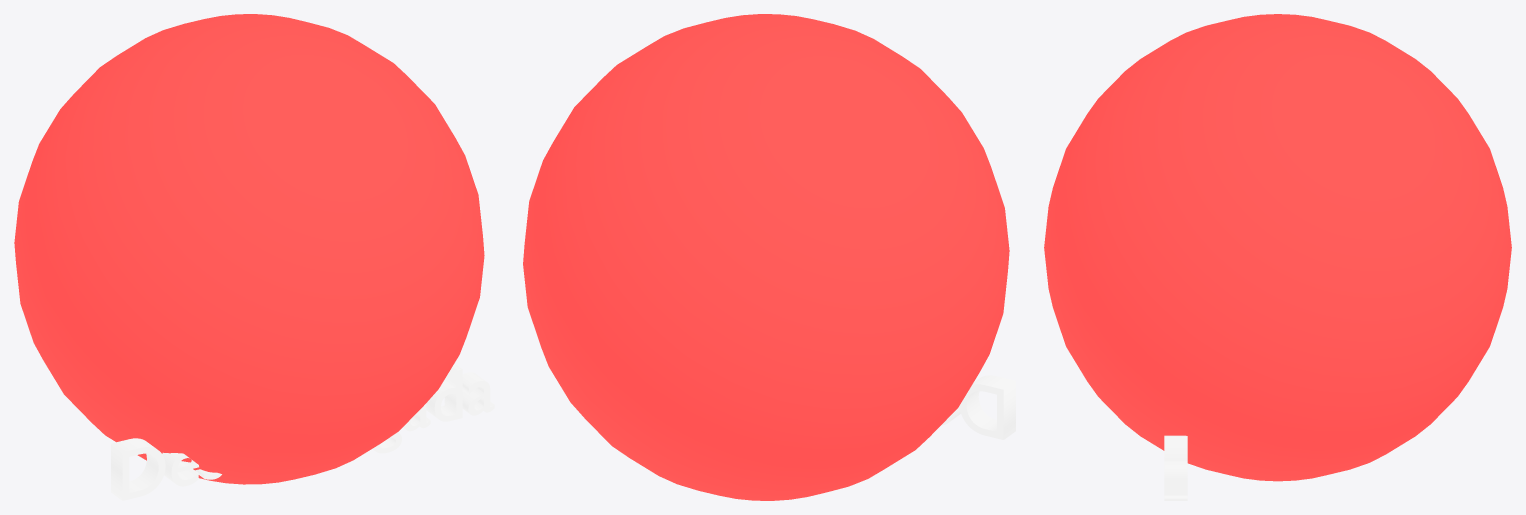
File: bateria-descarregada.glb
3 renders of one model, left to right at view 1: azimuth 30°, elevation 25°; view 2: azimuth 150°, elevation 25°; view 3: azimuth 270°, elevation 25°, orthographic. The views are drawn at different scales.
Parts seen in each view (by area): view 1: Sphere.026, Text.027; view 2: Sphere.026, Text.027; view 3: Sphere.026, Text.027.
Boxes of the visible parts, box(x1,y1,x2,y2) form: Sphere.026: box(14, 14, 484, 484); Text.027: box(111, 363, 494, 500); Sphere.026: box(523, 14, 1009, 500); Text.027: box(941, 375, 1015, 439); Sphere.026: box(1044, 14, 1511, 481); Text.027: box(1164, 435, 1187, 500).
Bounding box in the file's own units: 5.15 × 5.15 × 5.15.
